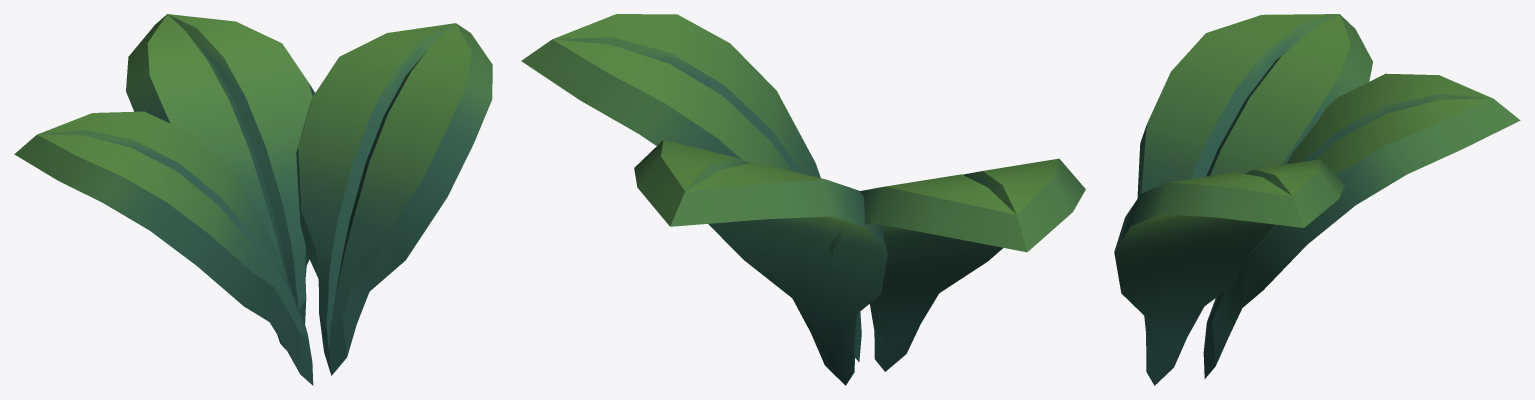
Rendered from Fern-2-2.fbx.
3 views of the same model, side by side, from view 1: azimuth 30°, elevation 25°; view 2: azimuth 150°, elevation 25°; view 3: azimuth 270°, elevation 25° (orthographic). The views are drawn at different scales.
Visible parts, largest first — view 1: Fern-2-2; view 2: Fern-2-2; view 3: Fern-2-2.
Boxes of the visible parts, left/top/right/bottom form: Fern-2-2: left=14, top=14, right=492, bottom=385; Fern-2-2: left=521, top=14, right=1085, bottom=385; Fern-2-2: left=1114, top=14, right=1520, bottom=385.
Size of the model in its own units: 204 by 119 by 149.
